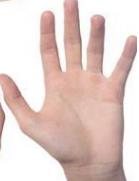down: (1, 1, 137, 165)
